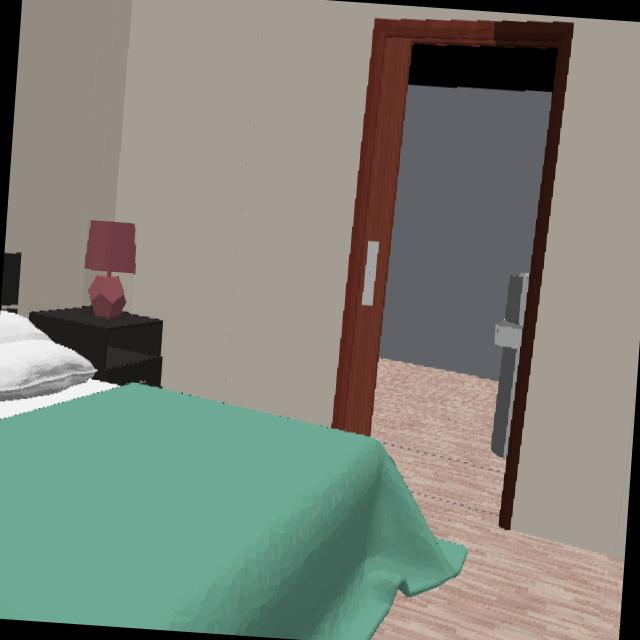bed: (0, 255, 463, 640)
lamp: (84, 220, 136, 318)
nighttable: (29, 307, 162, 386)
